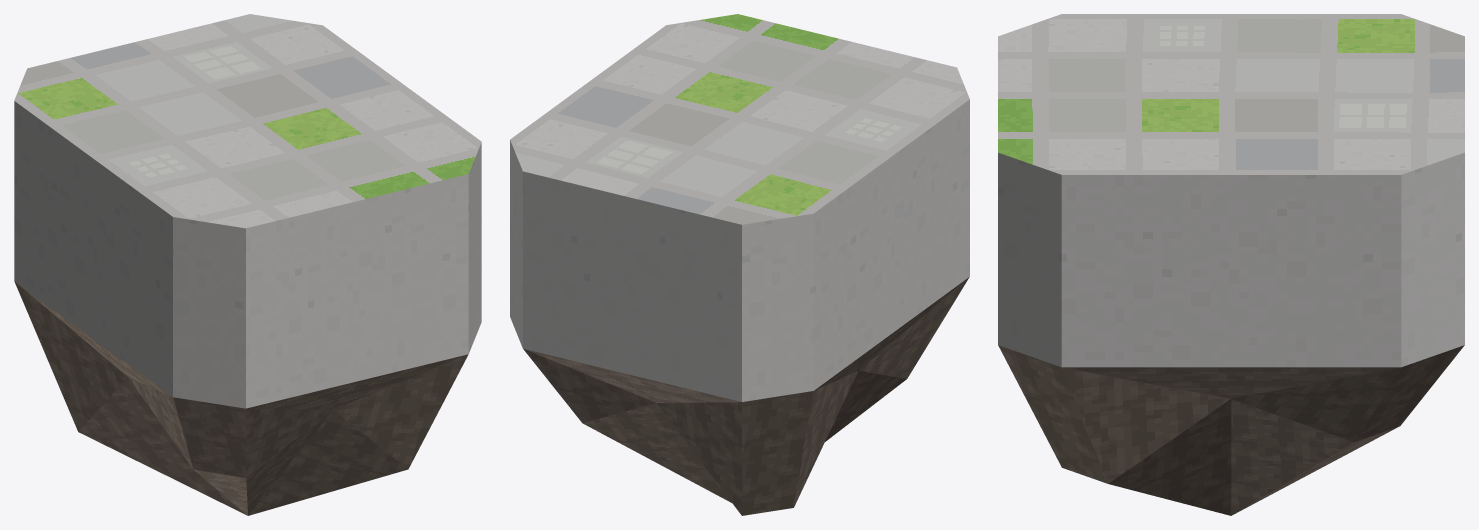
File: 02d1_Scallop_Island.glb
The picture shows the model from 3 angles, left to right: view 1: azimuth 30°, elevation 25°; view 2: azimuth 150°, elevation 25°; view 3: azimuth 270°, elevation 25°; orthographic projection. The views are drawn at different scales.
Parts seen in each view (by area): view 1: part_0; view 2: part_0; view 3: part_0.
Boxes of the visible parts, <box> form: part_0: <box>14,14,481,515</box>; part_0: <box>510,14,969,515</box>; part_0: <box>998,14,1464,515</box>.
Bounding box in the file's own units: 89.78 × 110 × 110.
1 material, 1 textured.
